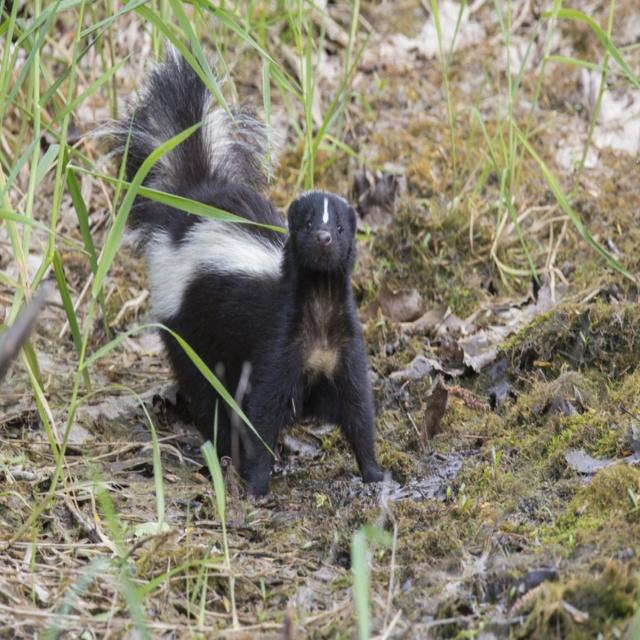Skunk: (100, 39, 384, 503)
